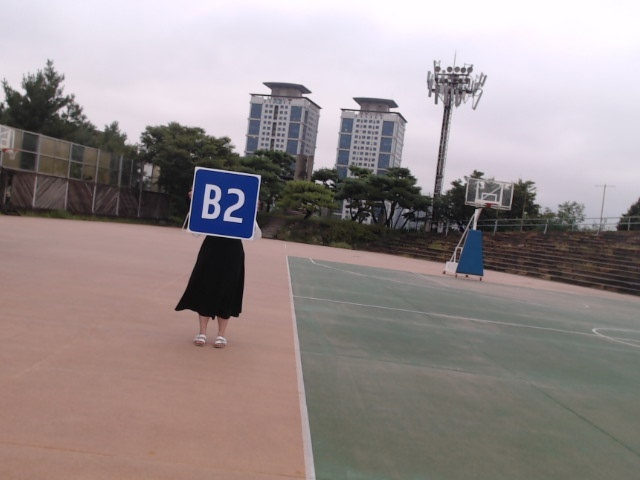delivery_b2: (188, 168, 260, 239)
